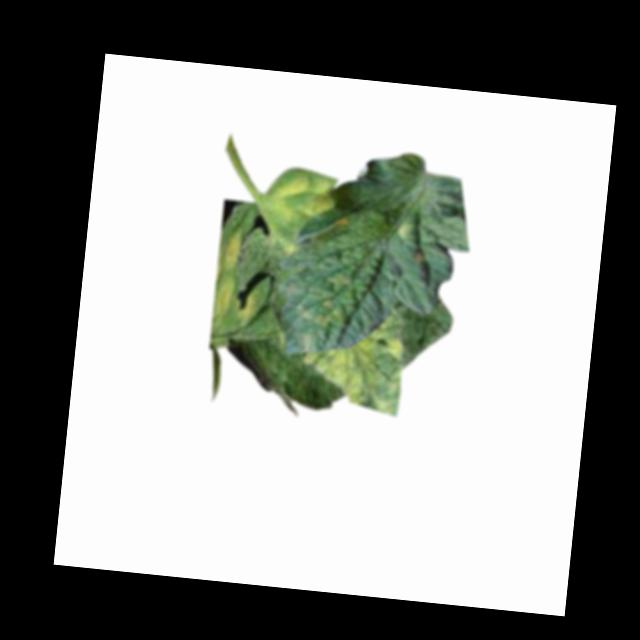Leaf_Mold: (297, 311, 408, 417), (268, 166, 339, 228), (286, 293, 348, 353), (219, 225, 247, 273), (211, 271, 235, 318), (321, 269, 354, 296), (233, 291, 255, 321), (332, 213, 353, 236), (396, 218, 412, 243)
